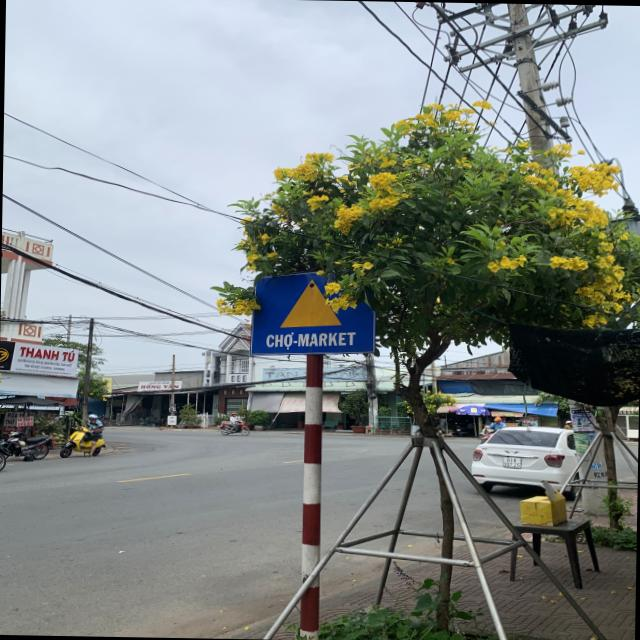Cho_Quay_Xe: (252, 272, 372, 356)
